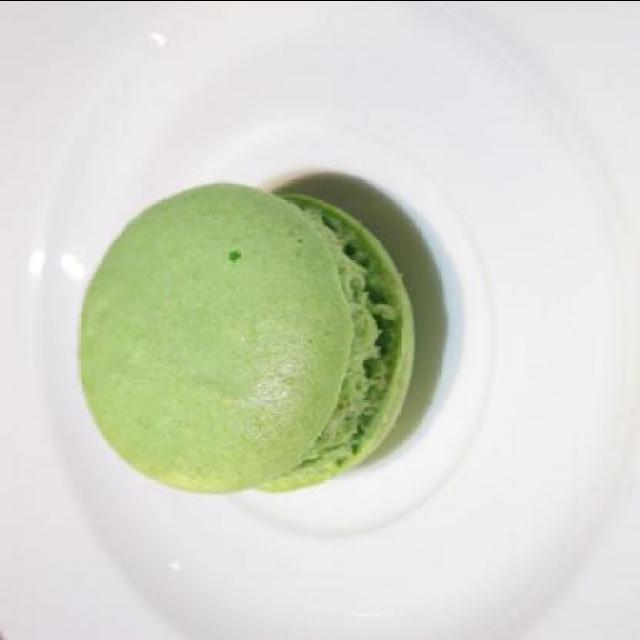Macaron: (77, 180, 440, 498)
